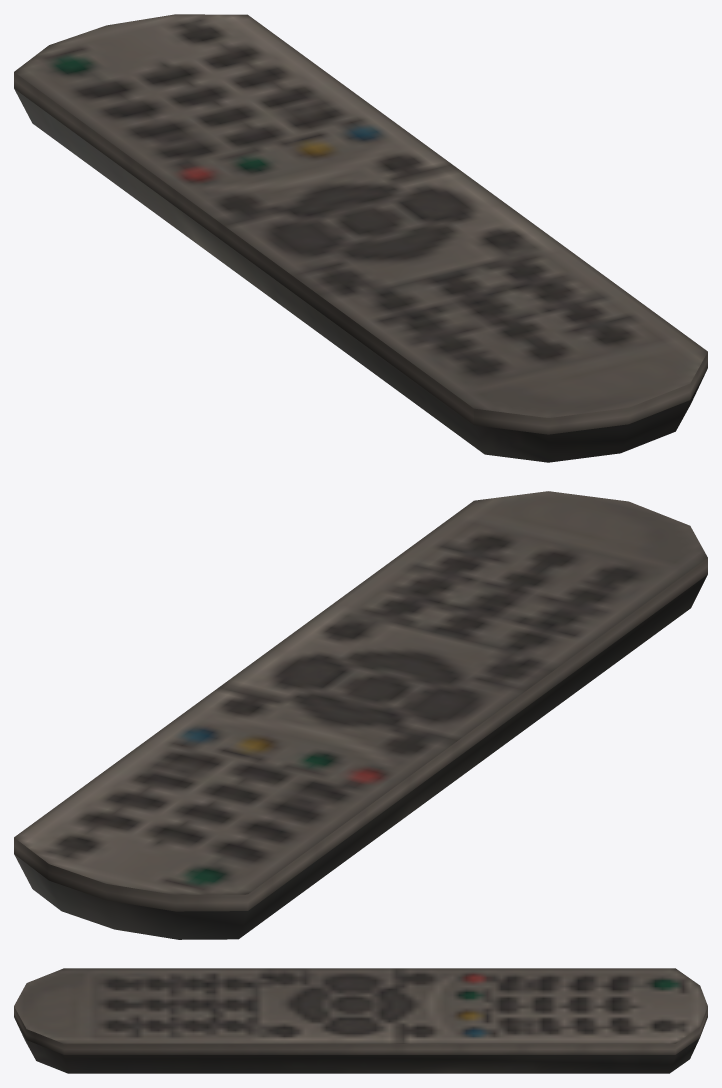
File: tv_remote_mp_1.dae
The picture shows the model from 3 angles, top to bottom: view 1: azimuth 30°, elevation 25°; view 2: azimuth 150°, elevation 25°; view 3: azimuth 270°, elevation 25°; orthographic projection. The views are drawn at different scales.
Visible parts, largest first — view 1: tv_remote_mp_1; view 2: tv_remote_mp_1; view 3: tv_remote_mp_1.
Part boxes in pixels (x1,y1,x2,y2): tv_remote_mp_1: (14, 14, 707, 462); tv_remote_mp_1: (14, 491, 707, 939); tv_remote_mp_1: (14, 968, 707, 1073).
Size of the model in its own units: 0.074 by 0.2862 by 0.02.
Materials: 1 (1 with a texture image).
